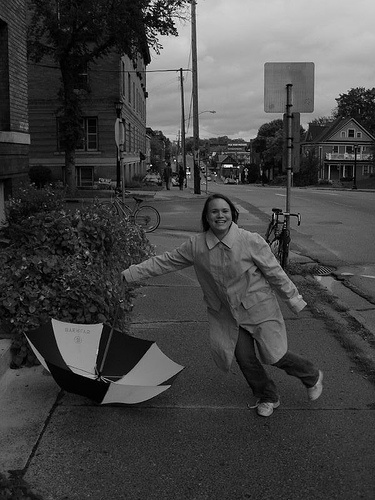non-vehicle: (99, 184, 160, 232), (265, 207, 300, 268)
